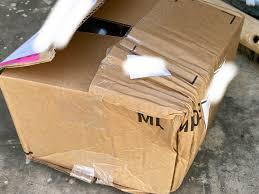damage_box: (0, 0, 245, 193)
